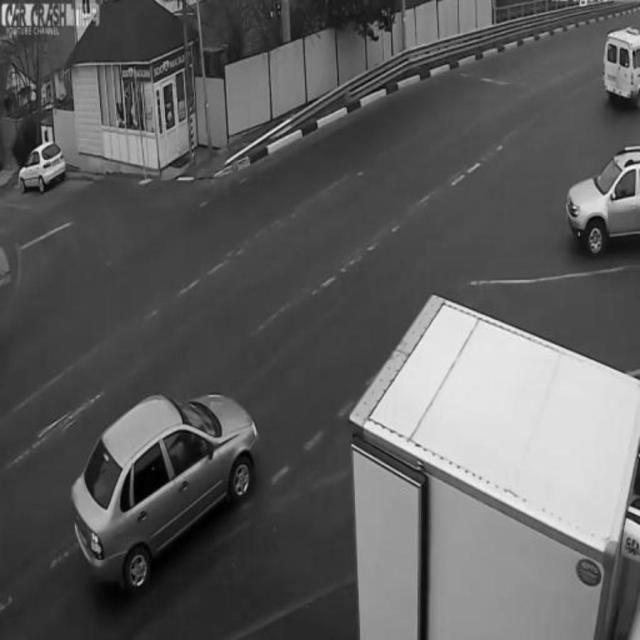vehicle: (76, 395, 258, 592), (571, 146, 640, 255), (600, 24, 640, 108), (19, 141, 69, 192)
